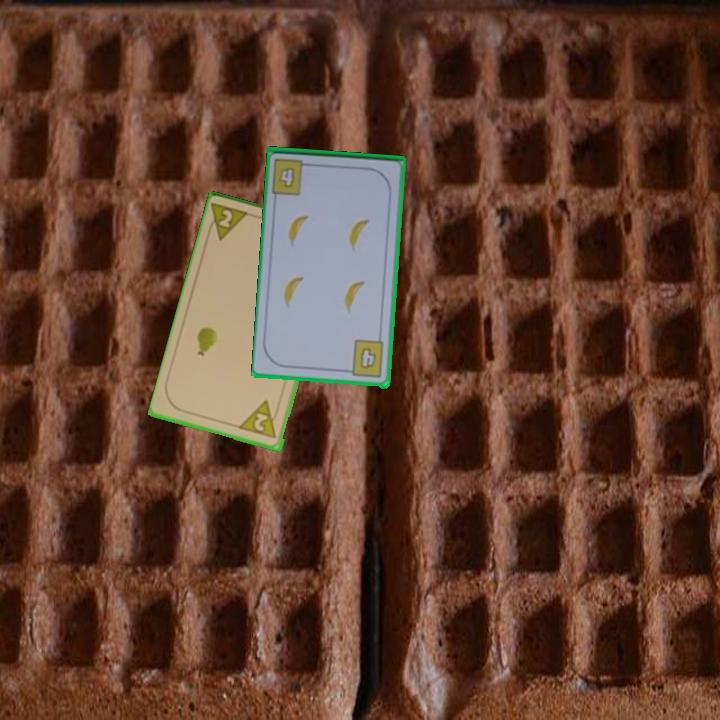2p: (203, 200, 254, 244), (237, 397, 282, 442)
4b: (342, 337, 387, 381), (275, 166, 298, 191)
